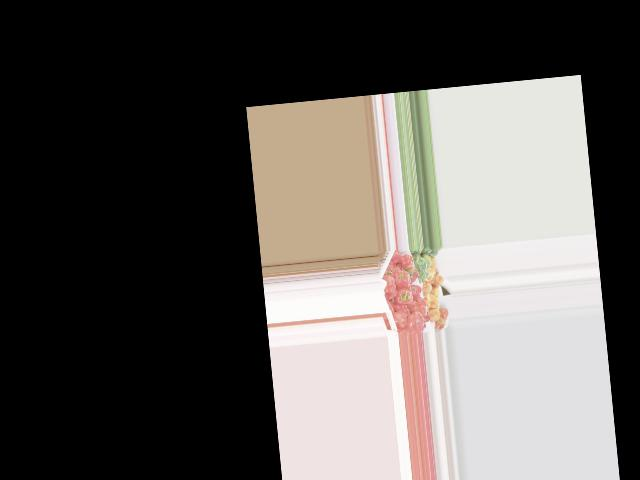bell_pepper: (381, 274, 397, 300)
